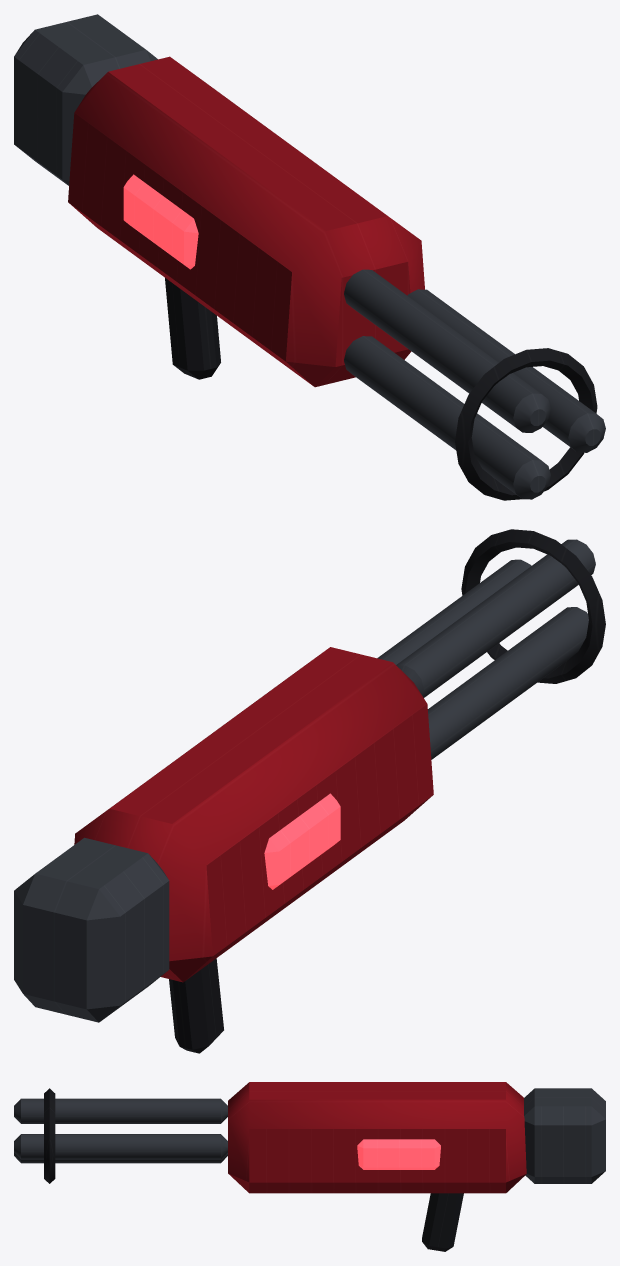
The model's file is gear_energy_cannon.glb.
3 renders of one model, top to bottom at view 1: azimuth 30°, elevation 25°; view 2: azimuth 150°, elevation 25°; view 3: azimuth 270°, elevation 25°, orthographic. The views are drawn at different scales.
Parts seen in each view (by area): view 1: Cannon_Housing, Cannon_Battery, Cannon_Barrel1, Cannon_Barrel2, Cannon_Clamp, Cannon_Barrel0, Cannon_Core, Cannon_Grip; view 2: Cannon_Housing, Cannon_Battery, Cannon_Barrel1, Cannon_Barrel2, Cannon_Clamp, Cannon_Core, Cannon_Grip, Cannon_Barrel0; view 3: Cannon_Housing, Cannon_Battery, Cannon_Barrel0, Cannon_Barrel1, Cannon_Core, Cannon_Grip, Cannon_Clamp, Cannon_Barrel2.
Part boxes in pixels (x1,y1,x2,y2): Cannon_Housing: [68, 56, 424, 387]; Cannon_Battery: [14, 14, 157, 185]; Cannon_Barrel1: [344, 269, 550, 432]; Cannon_Barrel2: [344, 336, 550, 499]; Cannon_Clamp: [455, 348, 597, 500]; Cannon_Barrel0: [407, 289, 605, 452]; Cannon_Core: [123, 174, 198, 269]; Cannon_Grip: [165, 278, 220, 379]; Cannon_Housing: [74, 647, 433, 982]; Cannon_Battery: [14, 837, 169, 1022]; Cannon_Barrel1: [396, 539, 595, 697]; Cannon_Barrel2: [428, 607, 588, 759]; Cannon_Clamp: [461, 529, 605, 683]; Cannon_Core: [264, 793, 340, 889]; Cannon_Grip: [169, 958, 223, 1053]; Cannon_Barrel0: [377, 559, 531, 664]; Cannon_Housing: [228, 1082, 526, 1193]; Cannon_Battery: [524, 1088, 605, 1183]; Cannon_Barrel0: [14, 1134, 227, 1159]; Cannon_Barrel1: [14, 1098, 227, 1123]; Cannon_Core: [357, 1139, 440, 1169]; Cannon_Grip: [422, 1193, 463, 1251]; Cannon_Clamp: [44, 1088, 55, 1183]; Cannon_Barrel2: [14, 1152, 227, 1163].
Size of the model in its own units: 0.145 by 0.2463 by 0.83.
5 materials, 5 textured.
